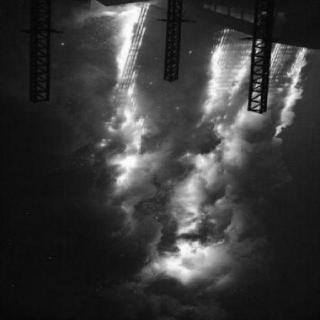Fire: (143, 47, 303, 286)
